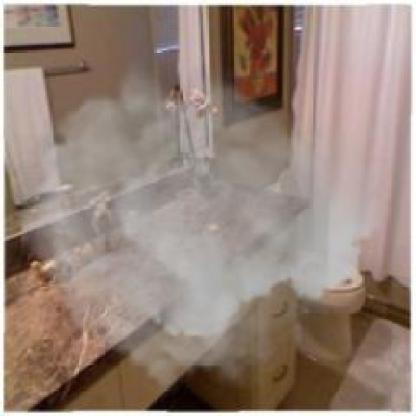Smoke: (21, 56, 390, 402)
